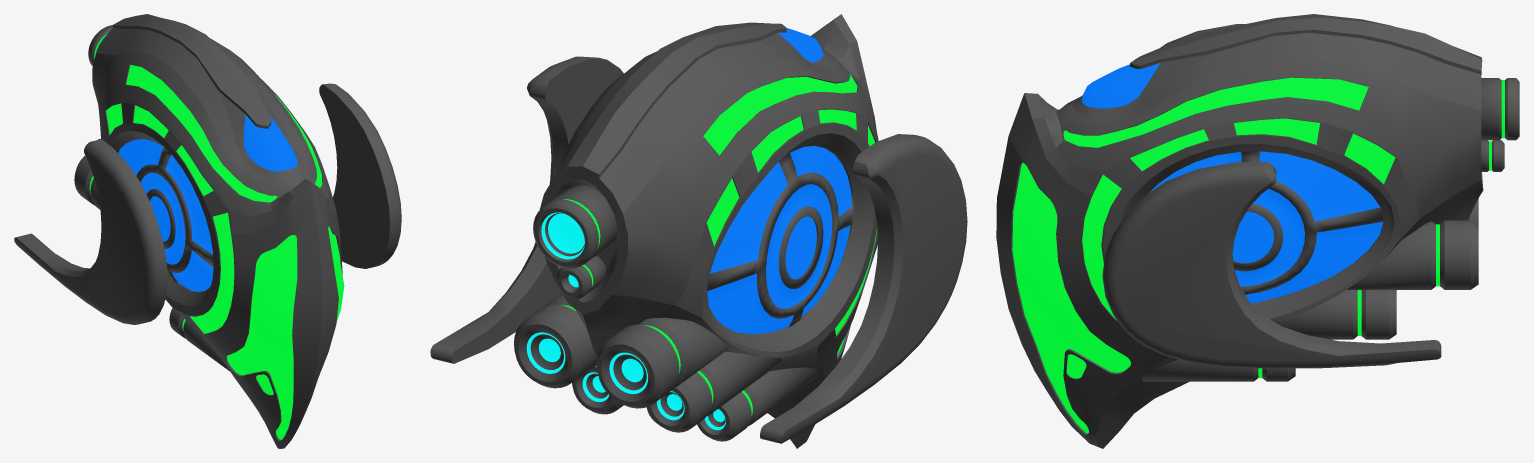
File: RhinoModel.fbx
3 renders of one model, left to right at view 1: azimuth 30°, elevation 25°; view 2: azimuth 150°, elevation 25°; view 3: azimuth 270°, elevation 25°, orthographic. The views are drawn at different scales.
Parts seen in each view (by area): view 1: fusalage, Wing front right, Wing front left; view 2: fusalage, Wing front right, Wing front left; view 3: fusalage, Wing front left.
Part boxes in pixels (x1,y1,x2,y2): fusalage: (74,14,344,448); Wing front right: (14,139,167,324); Wing front left: (319,83,401,268); fusalage: (514,14,878,448); Wing front right: (760,134,967,443); Wing front left: (430,56,623,363); fusalage: (996,14,1519,448); Wing front left: (1102,161,1441,368).
Size of the model in its own units: 1156 by 1531 by 1682.
